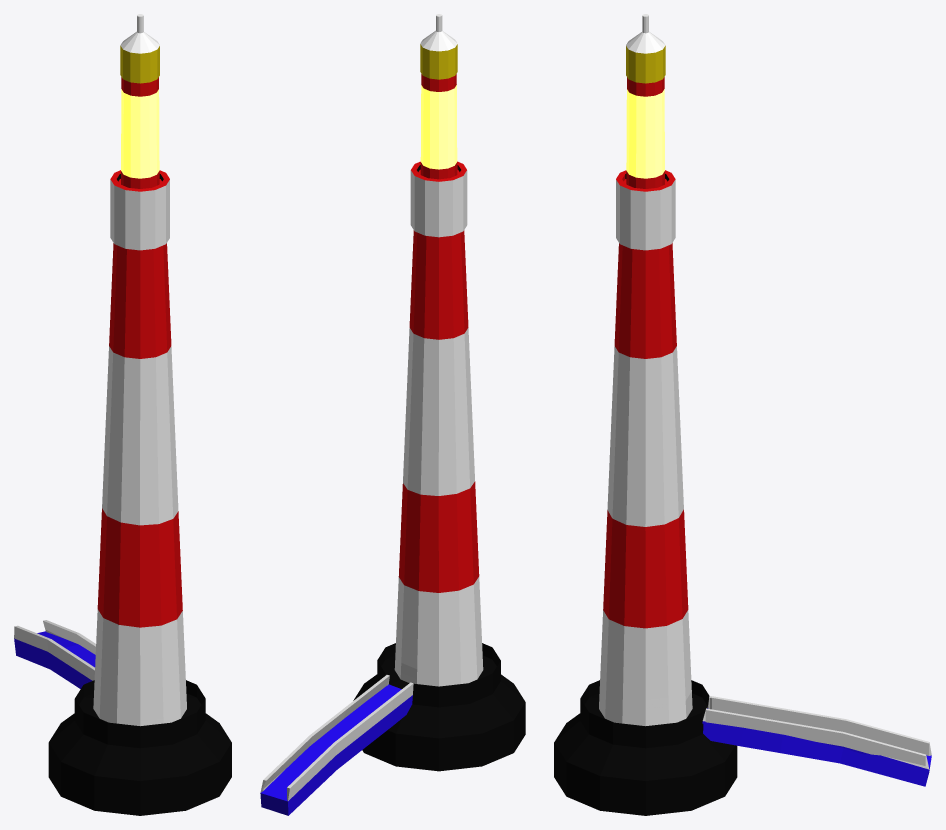
Rendered from Lighthouse.fbx.
3 renders of one model, left to right at view 1: azimuth 30°, elevation 25°; view 2: azimuth 150°, elevation 25°; view 3: azimuth 270°, elevation 25°, orthographic. The views are drawn at different scales.
Visible parts, largest first — view 1: Ligthhouse, Cube; view 2: Ligthhouse, Cube; view 3: Ligthhouse, Cube.
Part boxes in pixels (x1=…): Ligthhouse: x1=48, y1=14, x2=231, y2=815; Cube: x1=14, y1=620, x2=95, y2=688; Ligthhouse: x1=353, y1=14, x2=525, y2=771; Cube: x1=260, y1=675, x2=413, y2=815; Ligthhouse: x1=554, y1=14, x2=737, y2=815; Cube: x1=702, y1=695, x2=931, y2=786.
Bounding box in the file's own units: 2 × 9.17 × 4.12.
